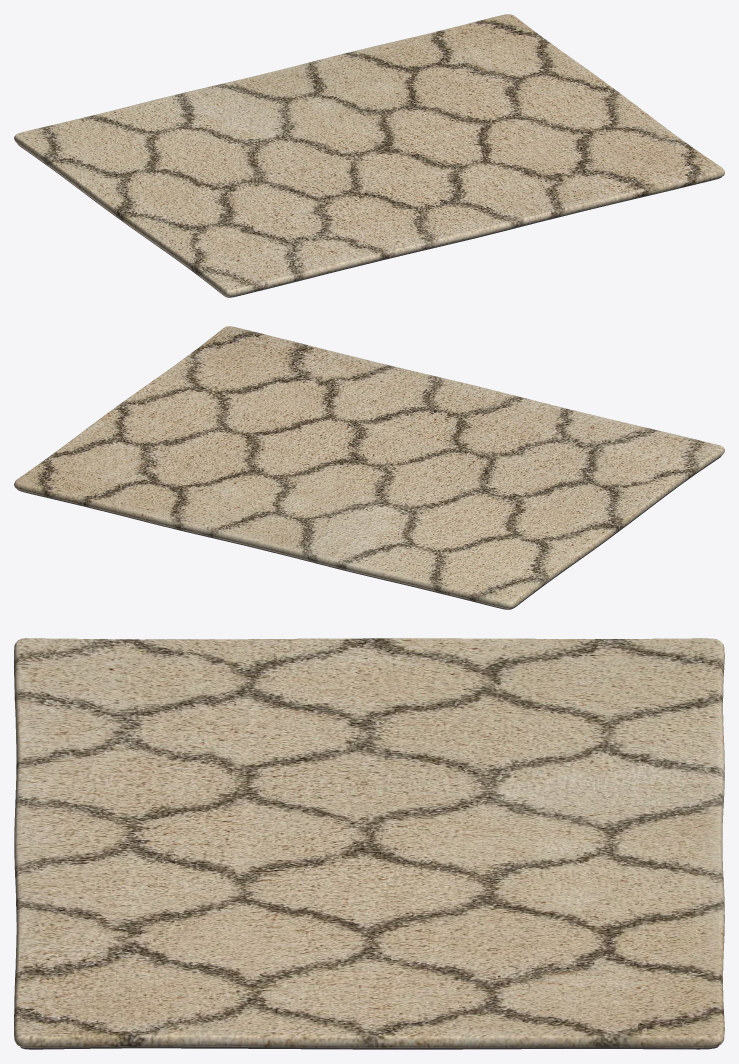
Rendered from B07QBRGHCJ.glb.
The picture shows the model from 3 angles, top to bottom: view 1: azimuth 30°, elevation 25°; view 2: azimuth 150°, elevation 25°; view 3: azimuth 270°, elevation 25°; orthographic projection. The views are drawn at different scales.
Parts seen in each view (by area): view 1: RootNode; view 2: RootNode; view 3: RootNode.
Boxes of the visible parts, x1,y1,x2,y2 form: RootNode: (14, 14, 724, 297); RootNode: (14, 326, 724, 609); RootNode: (14, 638, 724, 1049).
Size of the model in its own units: 1.6 by 0.0252 by 1.2.
Materials: 1 (1 with a texture image).
